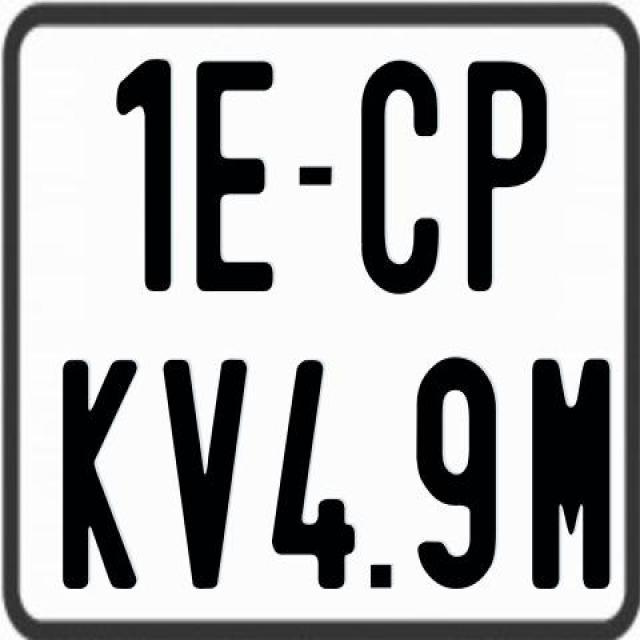1: (114, 56, 174, 296)
4: (268, 360, 354, 589)
9: (412, 353, 497, 588)
C: (360, 60, 438, 298)
E: (195, 59, 276, 298)
K: (62, 356, 144, 588)
M: (528, 357, 607, 592)
P: (468, 56, 548, 294)
V: (161, 358, 251, 596)
